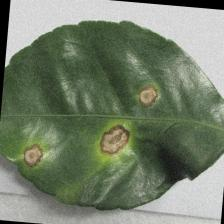canker: (10, 78, 161, 184)
